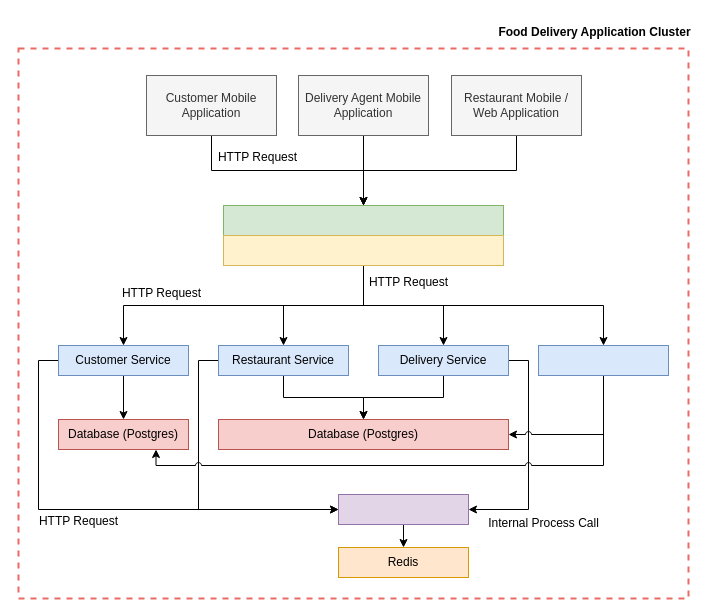
The diagram is 711 pixels wide and 616 high, and some of its shapes have lost their labels. Here are the shapes that lost their labels. From the top down, the centre of each, then its label:
At (x=363, y=220): "API Gateway".
At (x=363, y=250): "Auth / Rate Limiting".
At (x=603, y=360): "Admin Service".
At (x=403, y=509): "Location Service".
